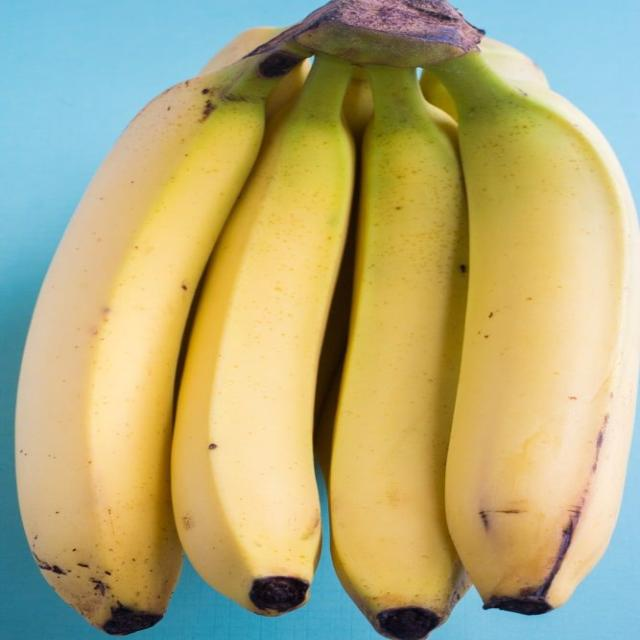unpeal banana: (17, 51, 300, 634), (431, 53, 639, 614), (172, 56, 355, 615), (325, 66, 468, 639), (200, 27, 284, 75), (479, 38, 548, 87)
